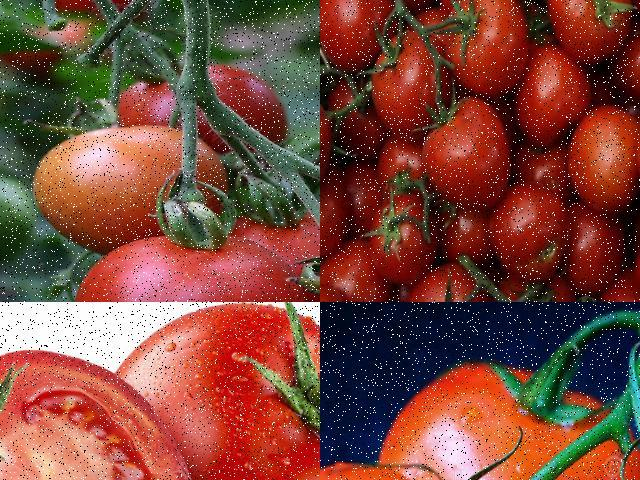tomato: (113, 302, 319, 479), (384, 358, 639, 479), (26, 118, 228, 253), (100, 65, 302, 180), (75, 237, 309, 301), (418, 97, 518, 213), (442, 0, 533, 100), (366, 36, 448, 136), (494, 186, 568, 288), (572, 107, 639, 219), (371, 192, 438, 283), (549, 0, 628, 67), (320, 0, 394, 69), (404, 270, 487, 301), (320, 182, 354, 246), (320, 276, 349, 301)
